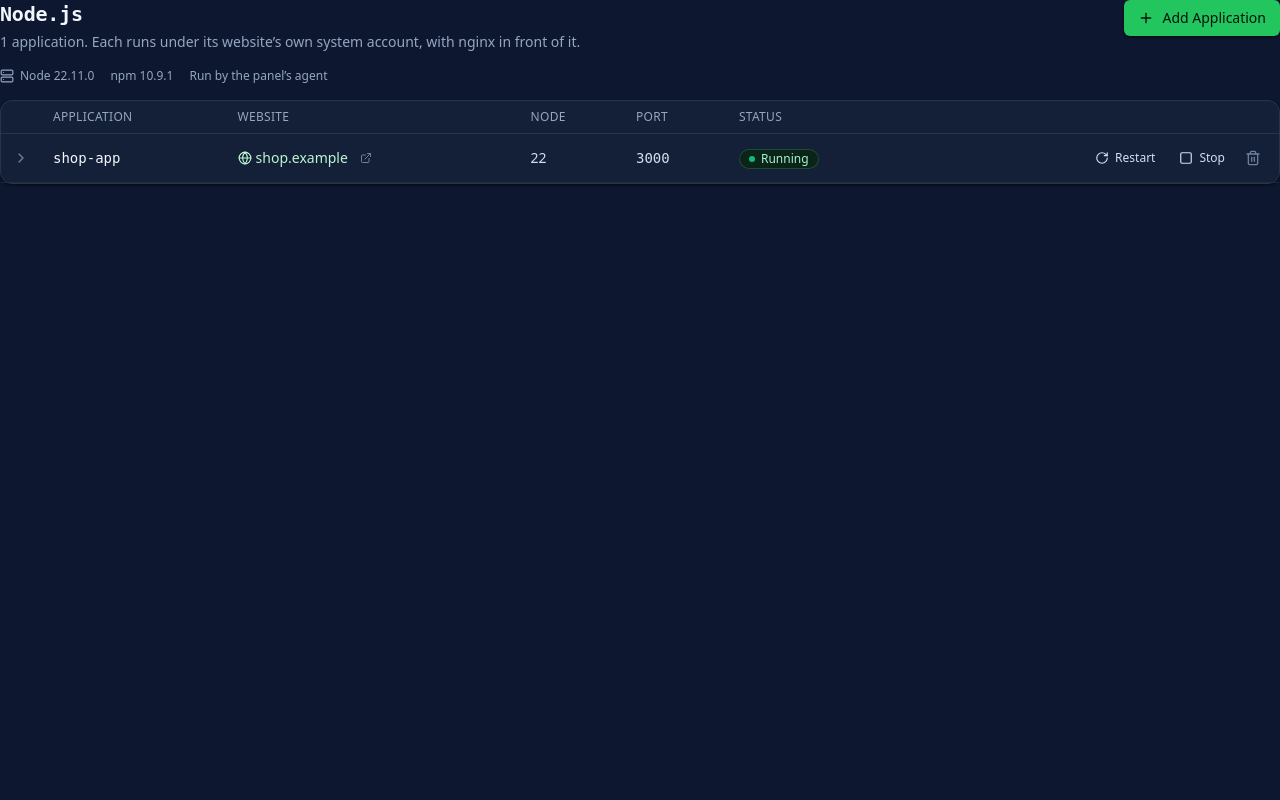
Test case: NodePage › warns that the code is left alone when removing an application
Check: the button "shop-app" is shown, box x1=53 y1=148 x2=120 y2=168
Click the button named "Remove shop-app". click: (1253, 158)
box: x1=1239 y1=144 x2=1267 y2=172
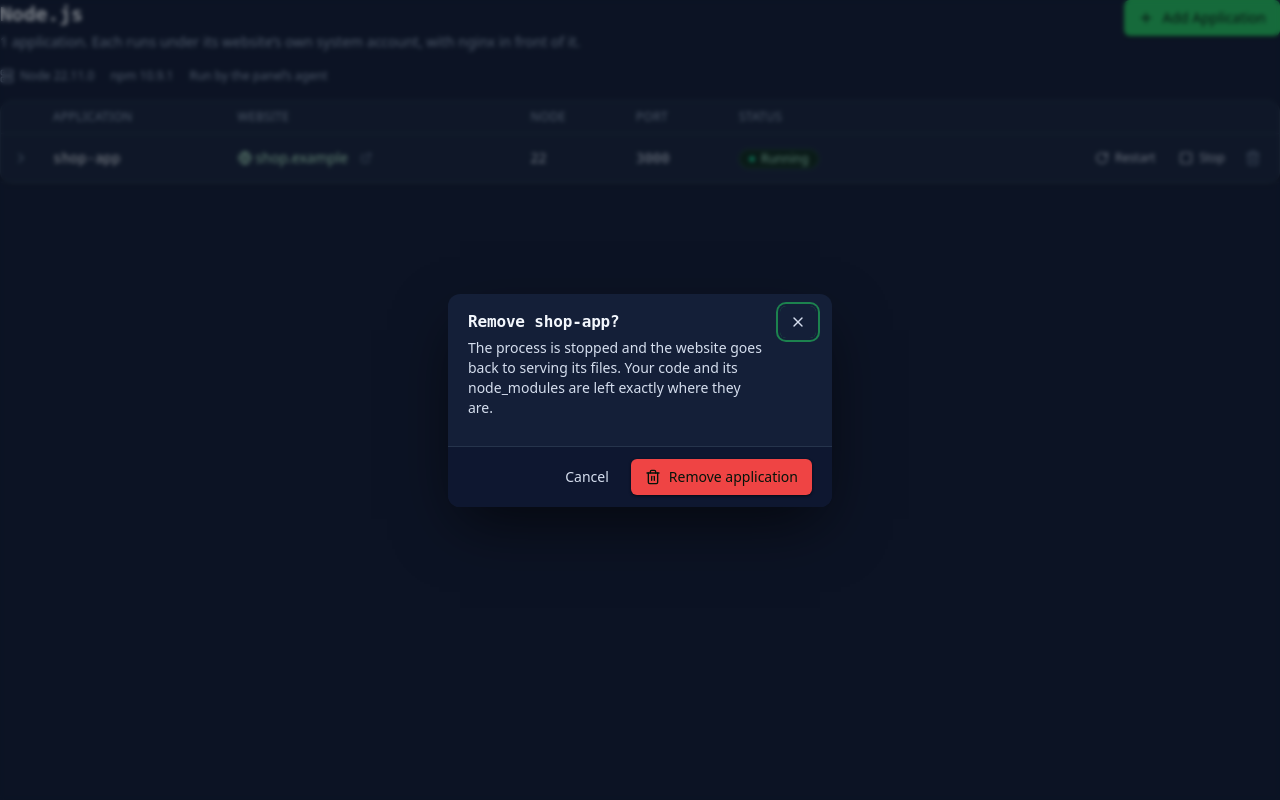
Check: the text "left exactly where they are" is shown, box x1=468 y1=338 x2=762 y2=416
